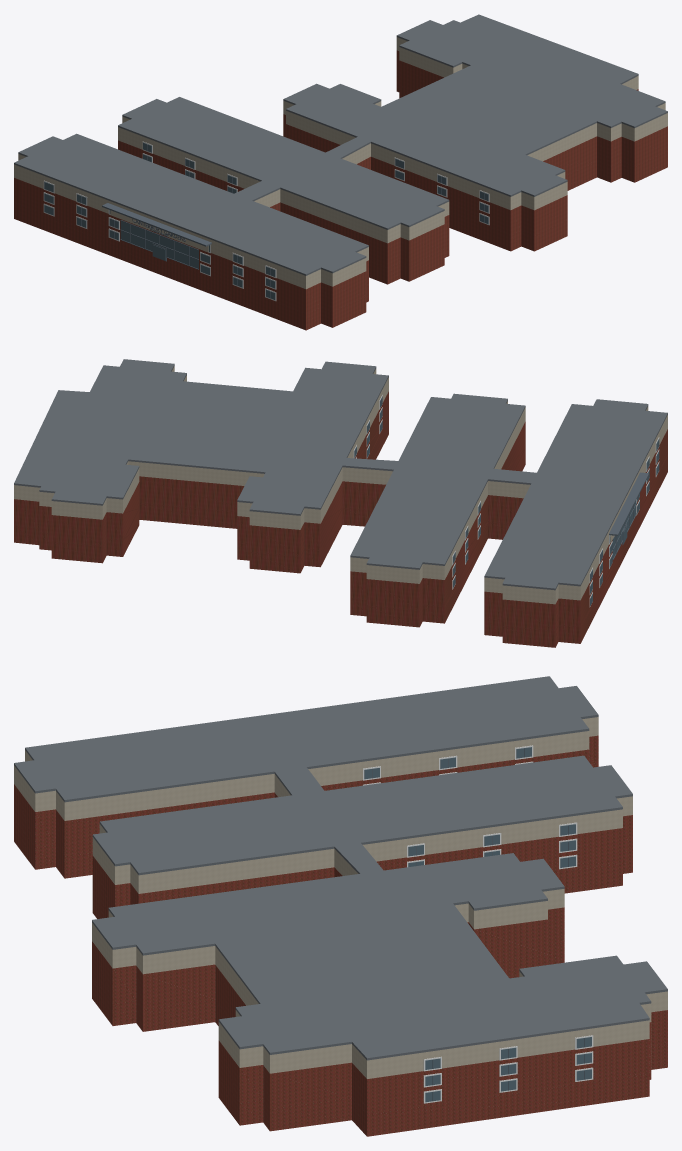
The model's file is way-254751834.glb.
3 renders of one model, top to bottom at view 1: azimuth 30°, elevation 25°; view 2: azimuth 150°, elevation 25°; view 3: azimuth 270°, elevation 25°, orthographic. The views are drawn at different scales.
Parts seen in each view (by area): view 1: CityBuilding_way-254751834_Canterbury_|_roof_charcoal, CityBuilding_way-254751834_Canterbury_|_red-brown_brick, CityBuilding_way-254751834_Canterbury_|_pale_stucco, CityBuilding_way-254751834_Canterbury_|_reflective_dark_glaz, CityBuilding_way-254751834_Canterbury_|_dark_metal, CityBuilding_way-254751834_Canterbury_|_white_window_trim; view 2: CityBuilding_way-254751834_Canterbury_|_roof_charcoal, CityBuilding_way-254751834_Canterbury_|_red-brown_brick, CityBuilding_way-254751834_Canterbury_|_pale_stucco, CityBuilding_way-254751834_Canterbury_|_reflective_dark_glaz, CityBuilding_way-254751834_Canterbury_|_dark_metal, CityBuilding_way-254751834_Canterbury_|_white_window_trim; view 3: CityBuilding_way-254751834_Canterbury_|_roof_charcoal, CityBuilding_way-254751834_Canterbury_|_red-brown_brick, CityBuilding_way-254751834_Canterbury_|_pale_stucco, CityBuilding_way-254751834_Canterbury_|_reflective_dark_glaz, CityBuilding_way-254751834_Canterbury_|_white_window_trim.
Boxes of the visible parts, x1,y1,x2,y2 form: CityBuilding_way-254751834_Canterbury_|_roof_charcoal: [14, 14, 667, 275]; CityBuilding_way-254751834_Canterbury_|_red-brown_brick: [14, 50, 667, 330]; CityBuilding_way-254751834_Canterbury_|_pale_stucco: [14, 37, 667, 289]; CityBuilding_way-254751834_Canterbury_|_reflective_dark_glaz: [44, 142, 488, 299]; CityBuilding_way-254751834_Canterbury_|_dark_metal: [48, 144, 484, 298]; CityBuilding_way-254751834_Canterbury_|_white_window_trim: [43, 141, 489, 301]; CityBuilding_way-254751834_Canterbury_|_roof_charcoal: [14, 359, 667, 590]; CityBuilding_way-254751834_Canterbury_|_red-brown_brick: [14, 391, 667, 647]; CityBuilding_way-254751834_Canterbury_|_pale_stucco: [14, 366, 667, 604]; CityBuilding_way-254751834_Canterbury_|_reflective_dark_glaz: [354, 396, 659, 605]; CityBuilding_way-254751834_Canterbury_|_dark_metal: [355, 398, 658, 603]; CityBuilding_way-254751834_Canterbury_|_white_window_trim: [353, 395, 659, 607]; CityBuilding_way-254751834_Canterbury_|_roof_charcoal: [14, 676, 667, 1060]; CityBuilding_way-254751834_Canterbury_|_red-brown_brick: [14, 735, 667, 1136]; CityBuilding_way-254751834_Canterbury_|_pale_stucco: [14, 717, 667, 1078]; CityBuilding_way-254751834_Canterbury_|_reflective_dark_glaz: [364, 747, 591, 1102]; CityBuilding_way-254751834_Canterbury_|_white_window_trim: [363, 745, 593, 1103].
Size of the model in its own units: 147 by 14.1 by 106.
Materials: 6 (2 with a texture image).
